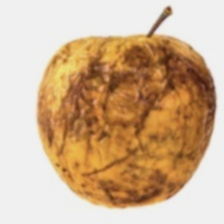apple: (46, 43, 219, 190)
